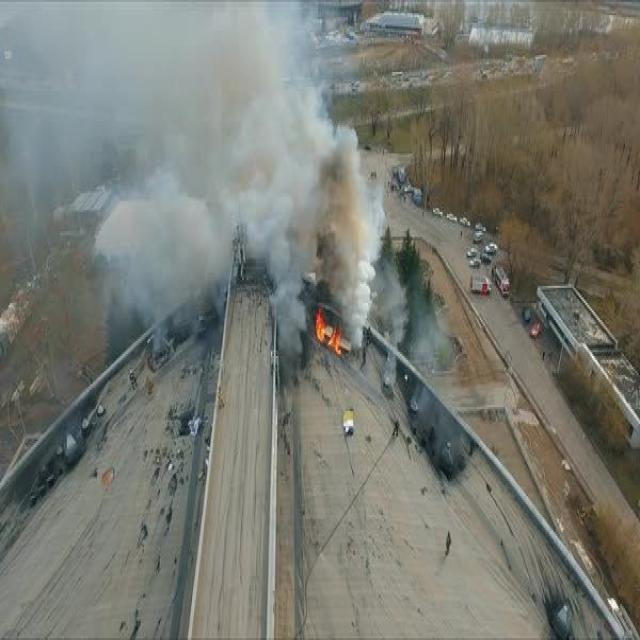Fire: (311, 303, 348, 354)
Smoke: (0, 0, 383, 352)
